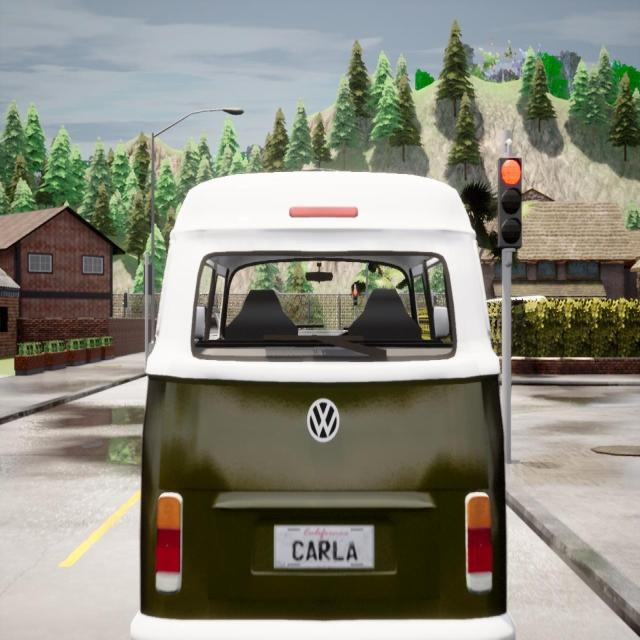Vehicle: (140, 172, 502, 637)
traffic_light: (499, 158, 522, 251), (143, 264, 152, 294), (353, 289, 358, 306), (122, 292, 127, 308)
